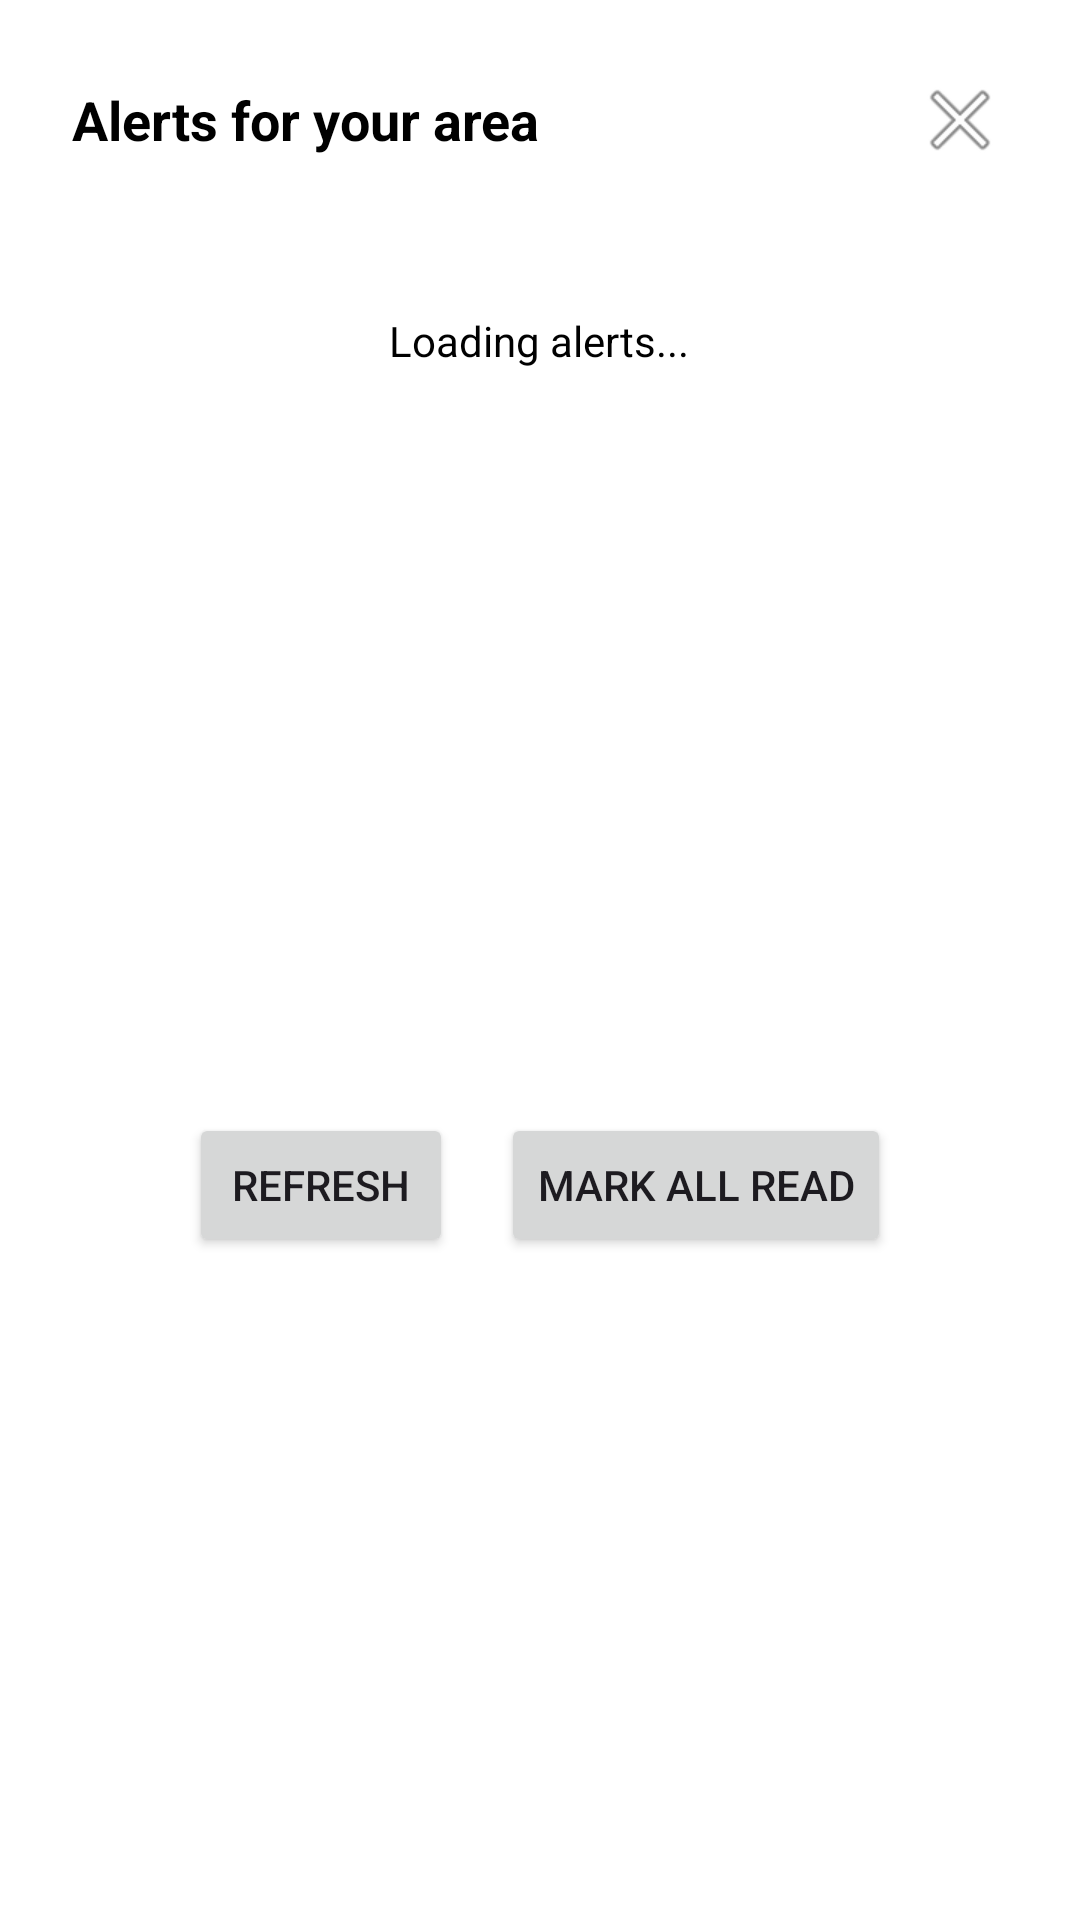

Icons on this 1080w x 1920h Android screen, each with the point to tap as (x=x, y=y):
close clear cancel: (x=960, y=120)
